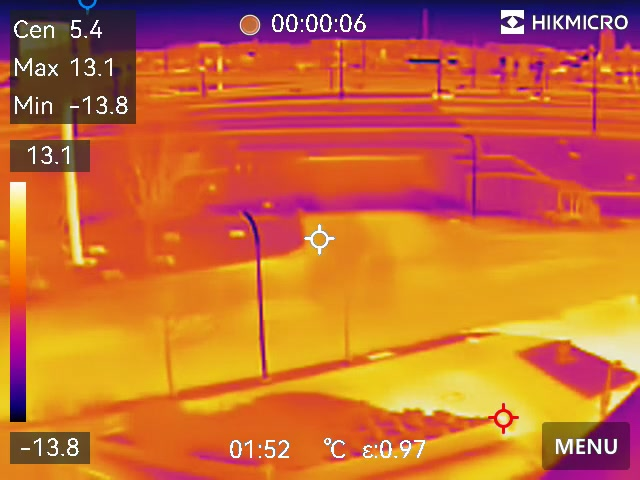vehicle: (428, 87, 456, 103), (527, 89, 554, 105)
